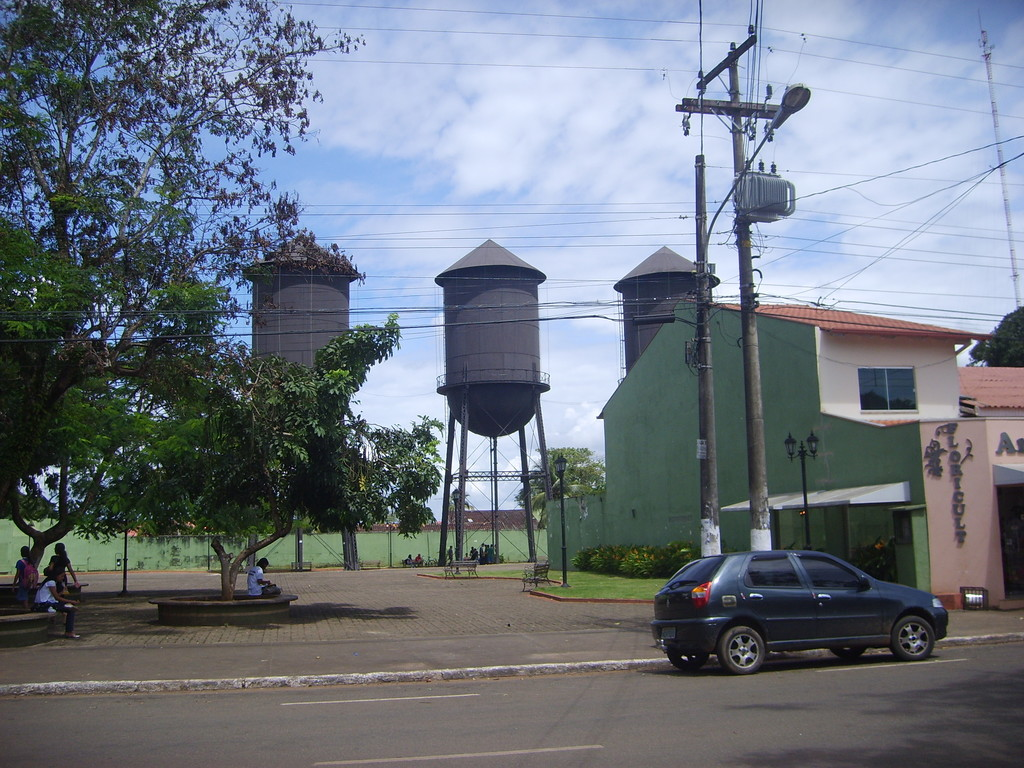mobil: (646, 554, 964, 683)
